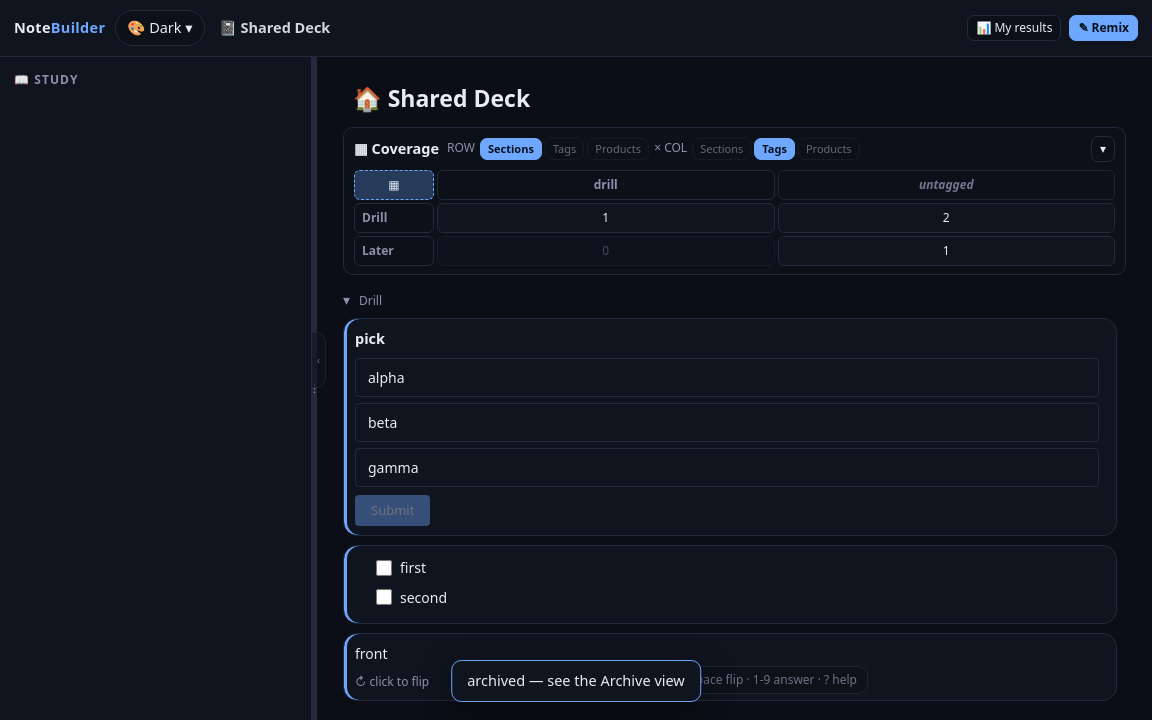
Scenario: Reader — the coverage filter moving under the cursor drops it › a cell picked after focusing leaves the hidden card unanswered
Press j
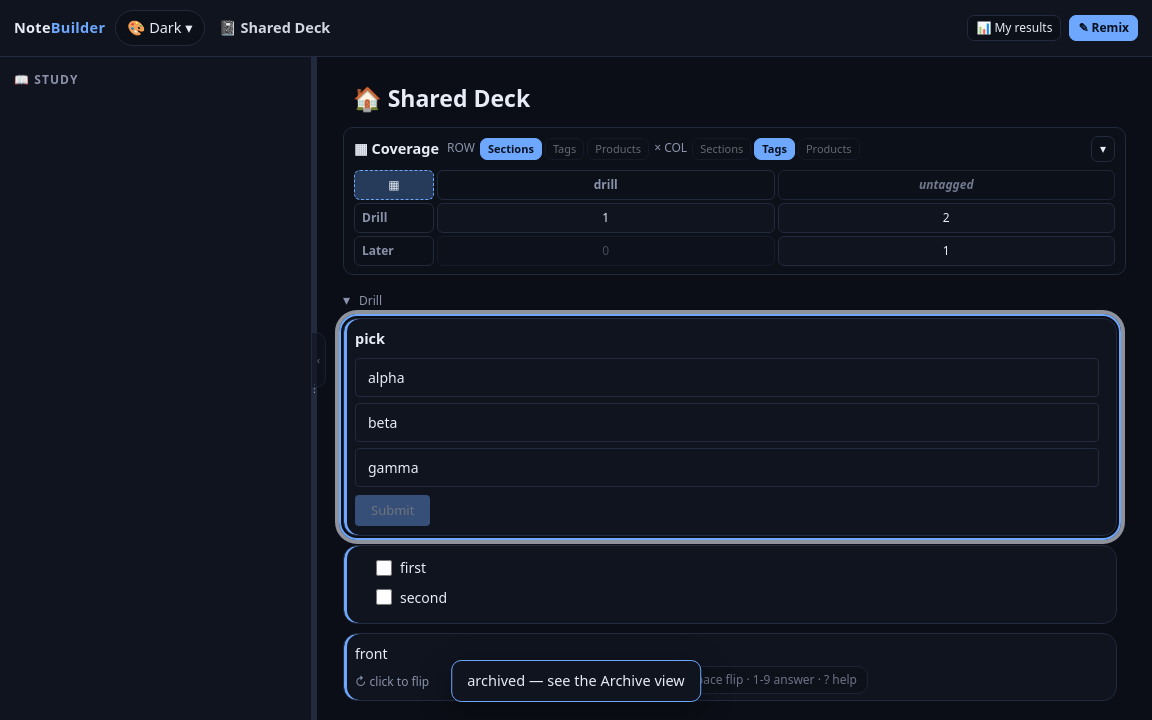
Click the button with class "mtx-cell" showing "0": (606, 251) [437, 236, 774, 266]
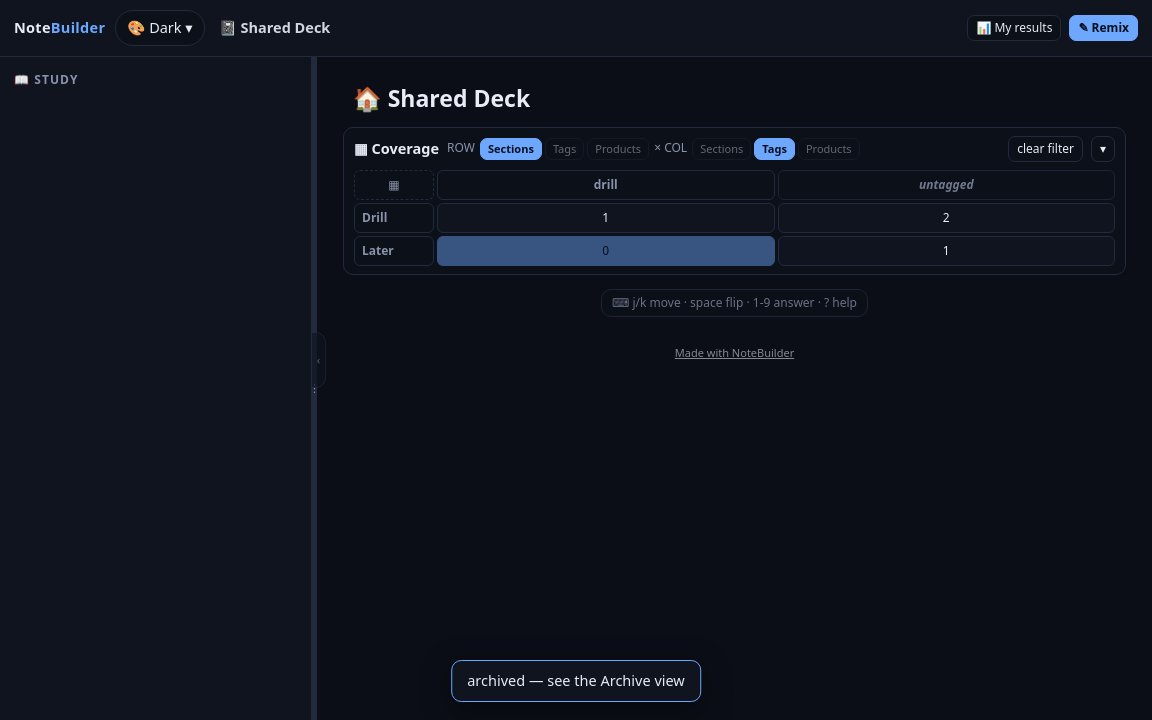
Expected: the element with class "kfocus" is gone
Press 1
Press Enter
Press Space
Press Escape
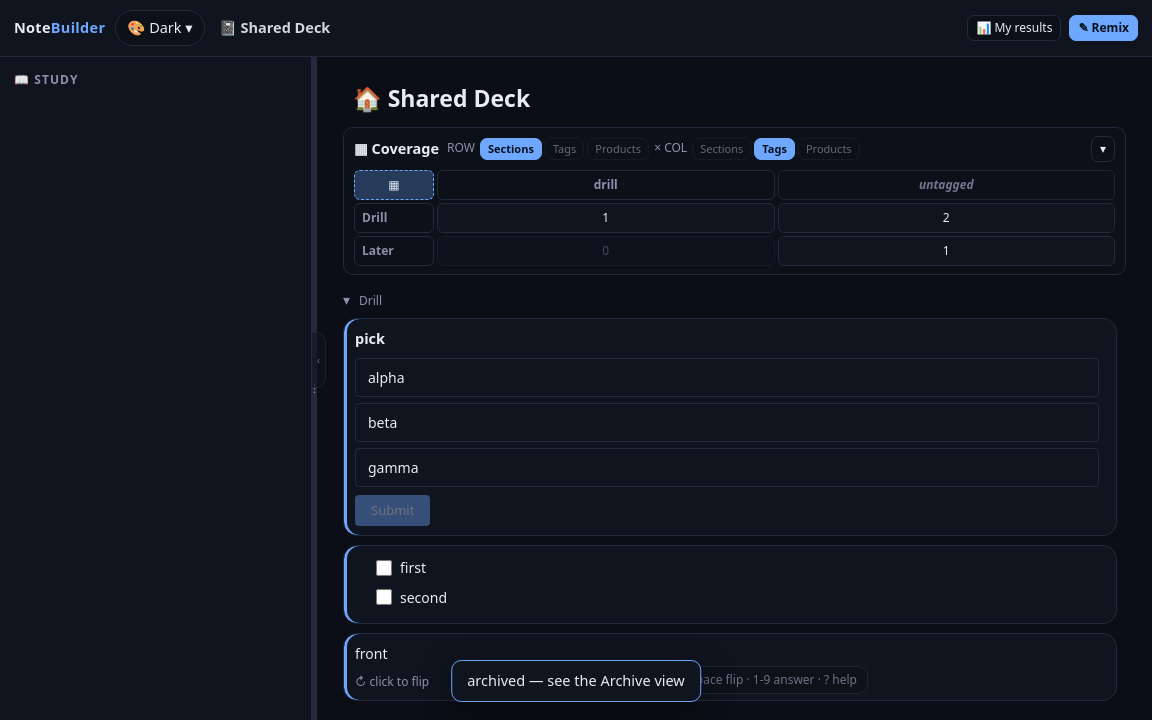
Expected: the element with class "furn" showing "pick alpha beta gamma Submit" is shown, [343, 318, 1117, 536]
